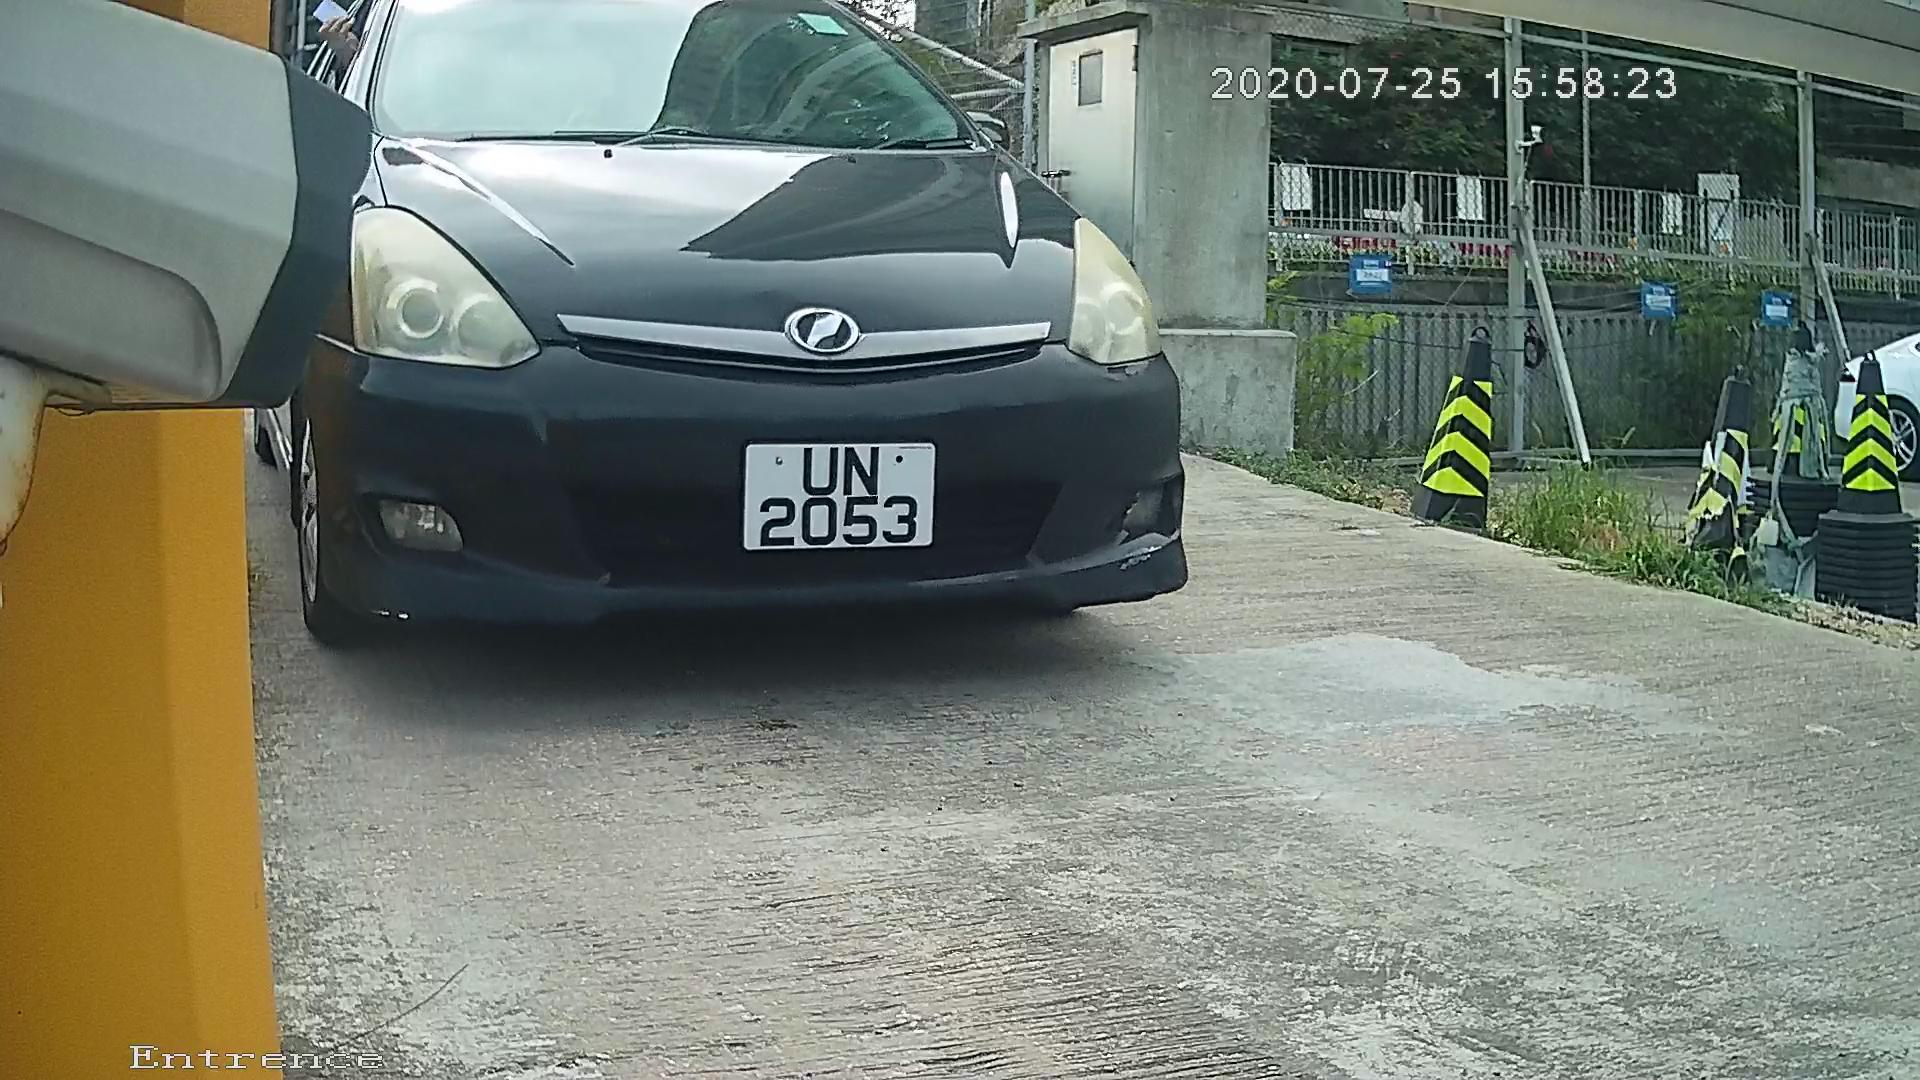License Plate: (721, 434, 952, 565)
